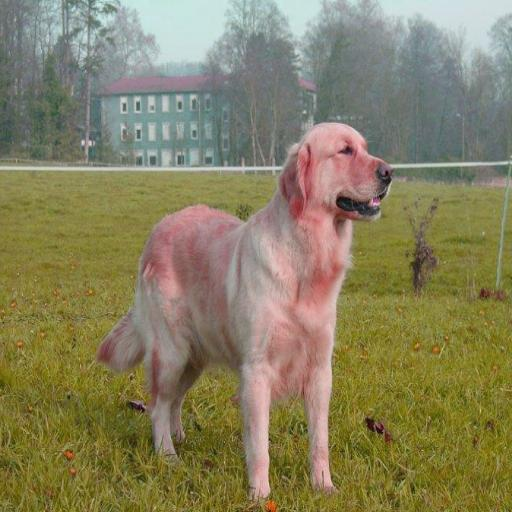dog_face: (276, 118, 393, 233)
